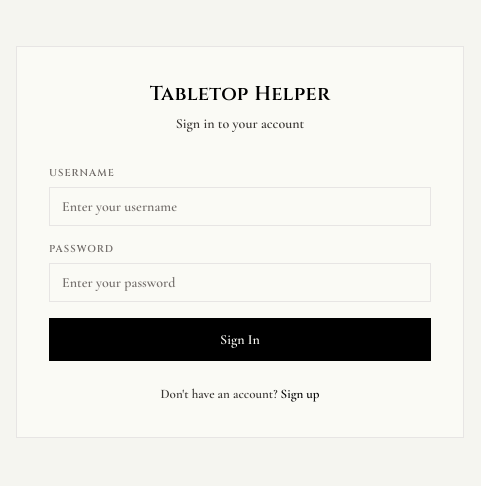
Scenario: LoginPage › displays error message when login fails
Step 1. Type "baduser" into the field labelled "Username" → (240, 207), box [49,187,431,226]
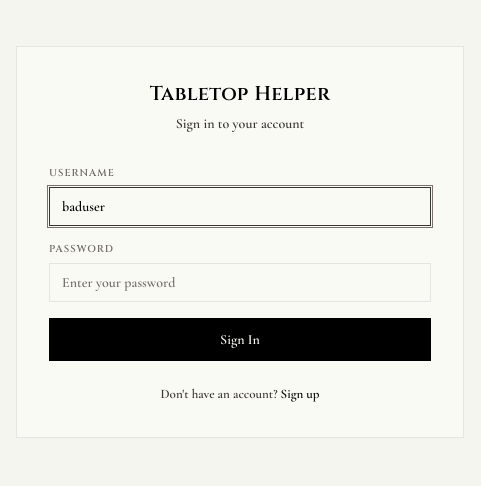
Step 2. Type "wrong" into the password field labelled "Password" → (240, 283), box [49,263,431,302]
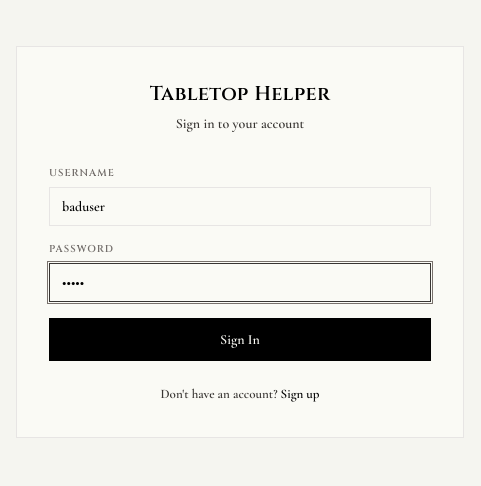
Step 3. Click the button "Sign In" → (240, 340), box [49,318,431,361]
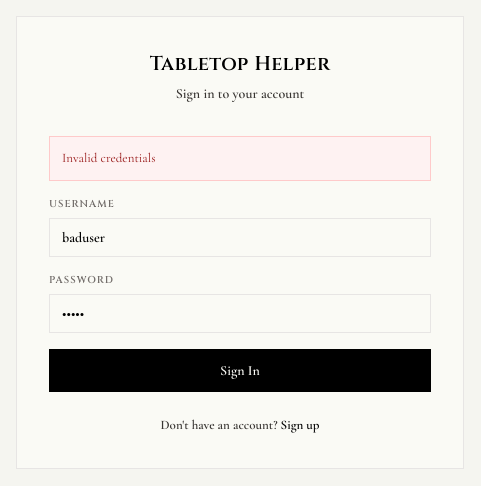
Expected: the message reads "Invalid credentials", [62,150,156,166]
